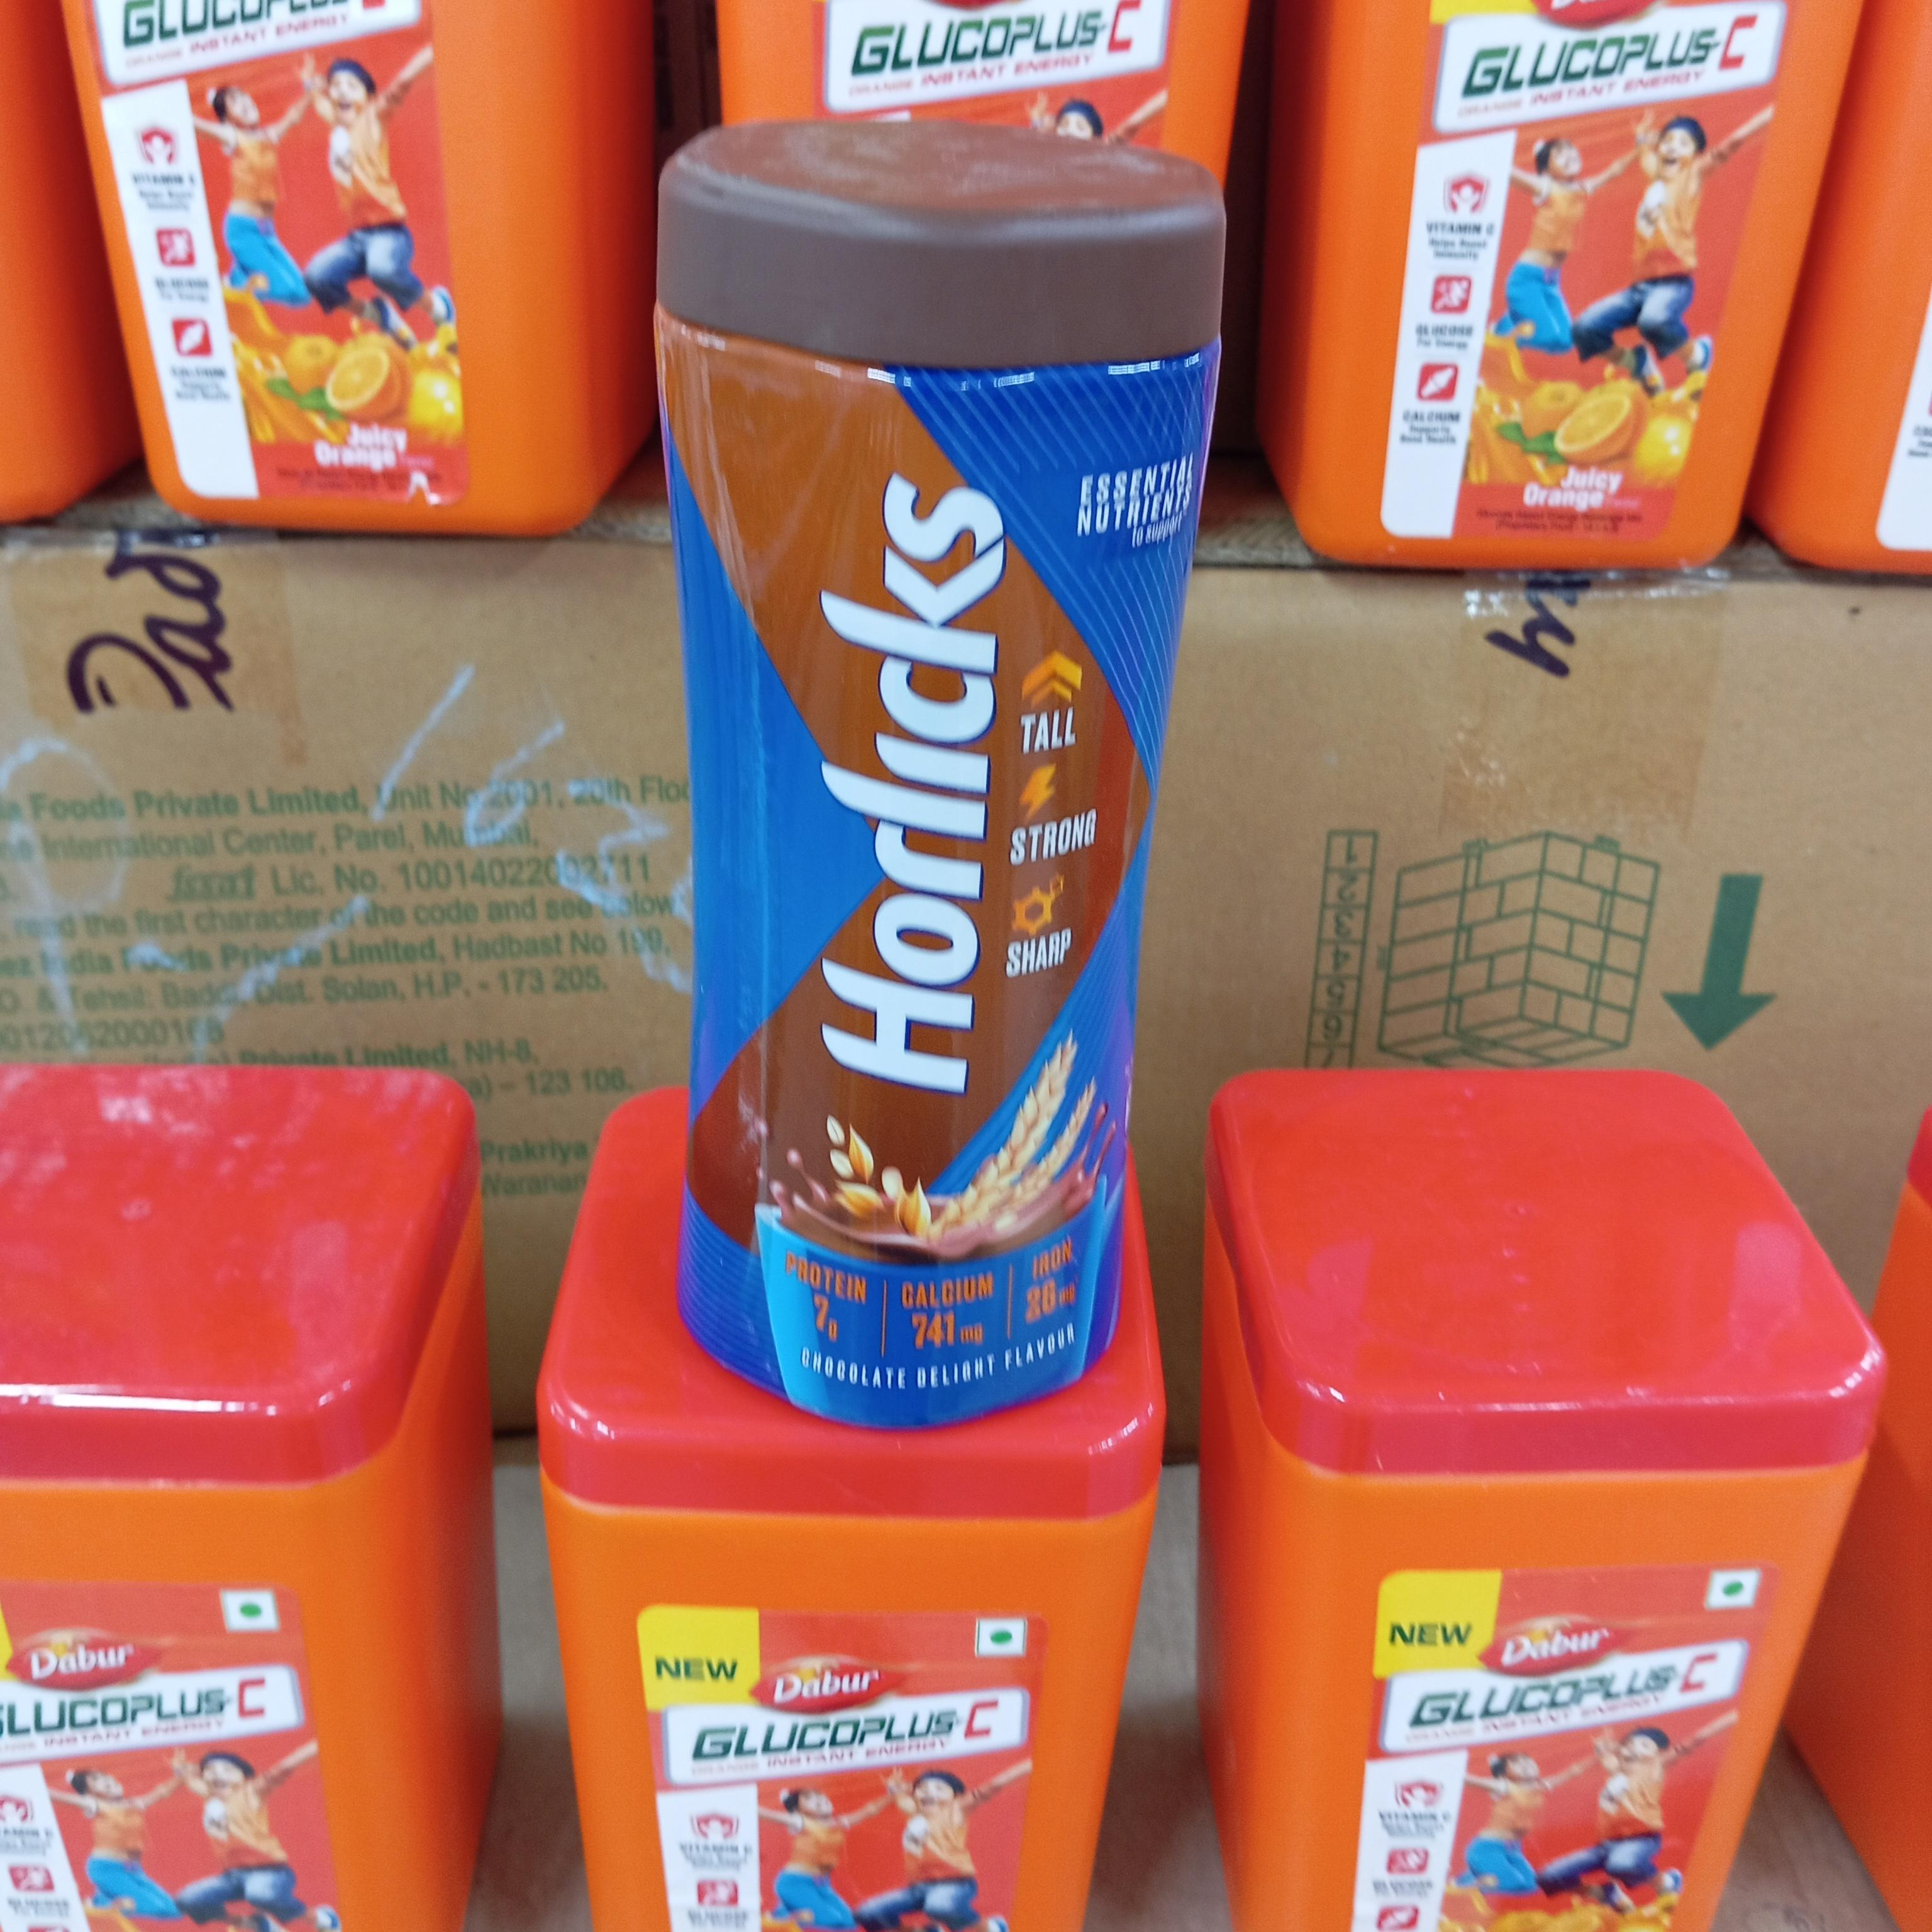HORLICK_CHOCOLATE_500_G_JAR: (616, 94, 1169, 1408)
